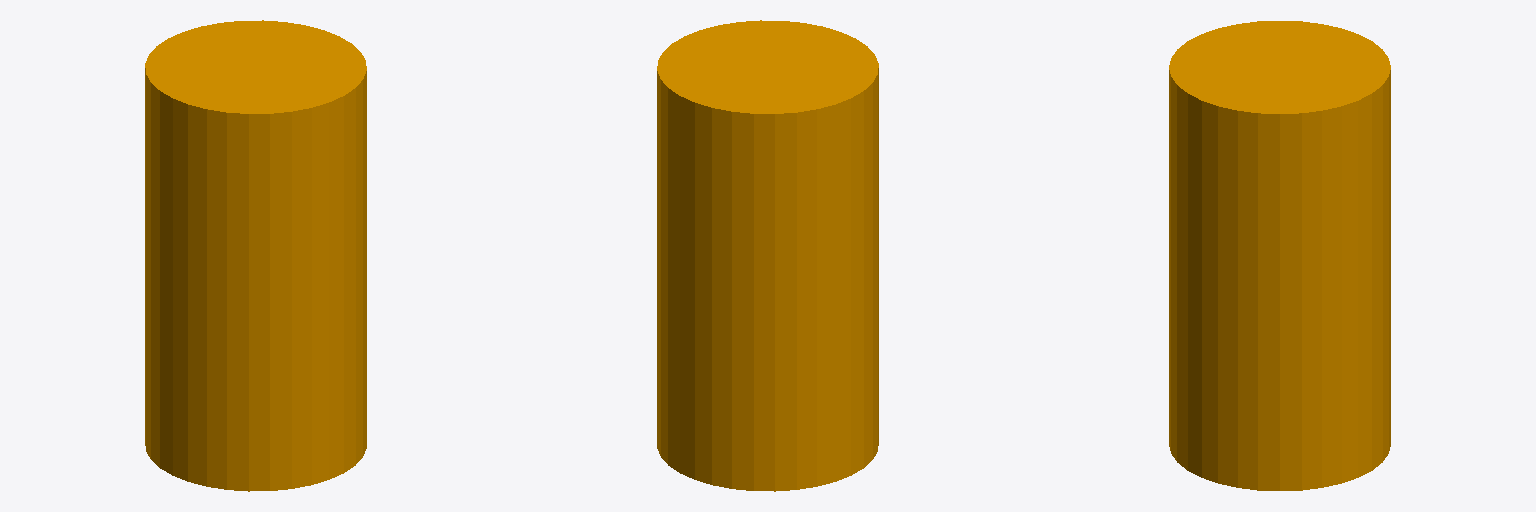
robot.urdf — coke:
<robot name="coke">
	<link name="coke">
		<inertial>
			<origin xyz="0 0 0" rpy="0 0 0" />			
			<mass value="0.3" />
			<!-- center of mass (com) is defined w.r.t. link local coordinate system -->
			<origin xyz="0 0 0" />
			<inertia  ixx="0.0" ixy="0.0"  ixz="0.0"  iyy="0.0"  iyz="0.0"  izz="0.0" />
		</inertial>
		<visual>
			<origin xyz="0 0 0" rpy="0 0 0" />
			<geometry>
				<cylinder radius="0.04" length="0.15" />
			</geometry>
		</visual>
		<collision>
			<origin xyz="0 0 0" rpy="0 0 0" />
			<geometry>
				<cylinder radius="0.04" length="0.15" />
			</geometry>
		</collision>
	</link>

	<gazebo reference="coke">
		<material>Custom/cocacola</material>
	</gazebo>
</robot>

--- Facts derived from the render (not from the file) ---
Views: 3 orthographic renders of the robot side by side, from view 1: azimuth 30°, elevation 25°; view 2: azimuth 150°, elevation 25°; view 3: azimuth 270°, elevation 25°.
Robot: coke — 1 links, 0 joints (none); root link coke; default pose: every joint at zero.
Visible links, largest first — view 1: coke; view 2: coke; view 3: coke.
Boxes of the visible links, x1=… form: coke: x1=145, y1=20, x2=366, y2=491; coke: x1=657, y1=20, x2=878, y2=491; coke: x1=1169, y1=21, x2=1390, y2=490.
Bounding box of the posed robot: 0.08 × 0.08 × 0.15 m (x, y, z).
Geometry: primitives only (box / cylinder / sphere), no mesh files.